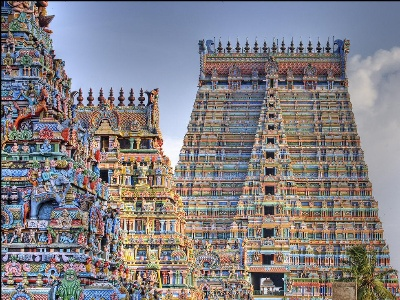gopura: (153, 29, 390, 272)
